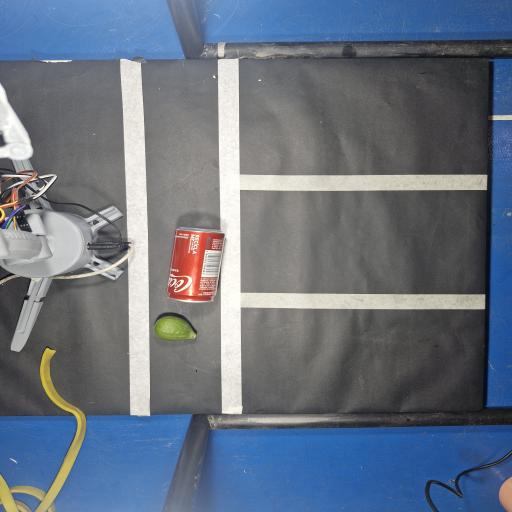higo: (154, 316, 196, 341)
lata: (167, 228, 224, 303)
